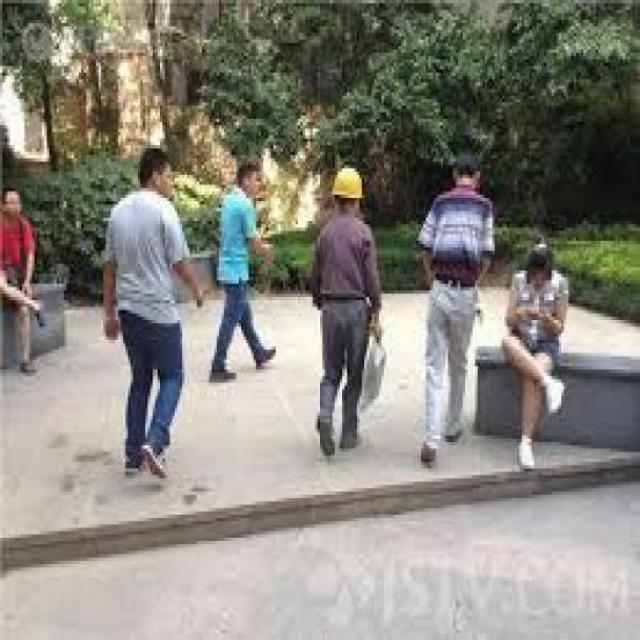helmet: (325, 152, 367, 214)
